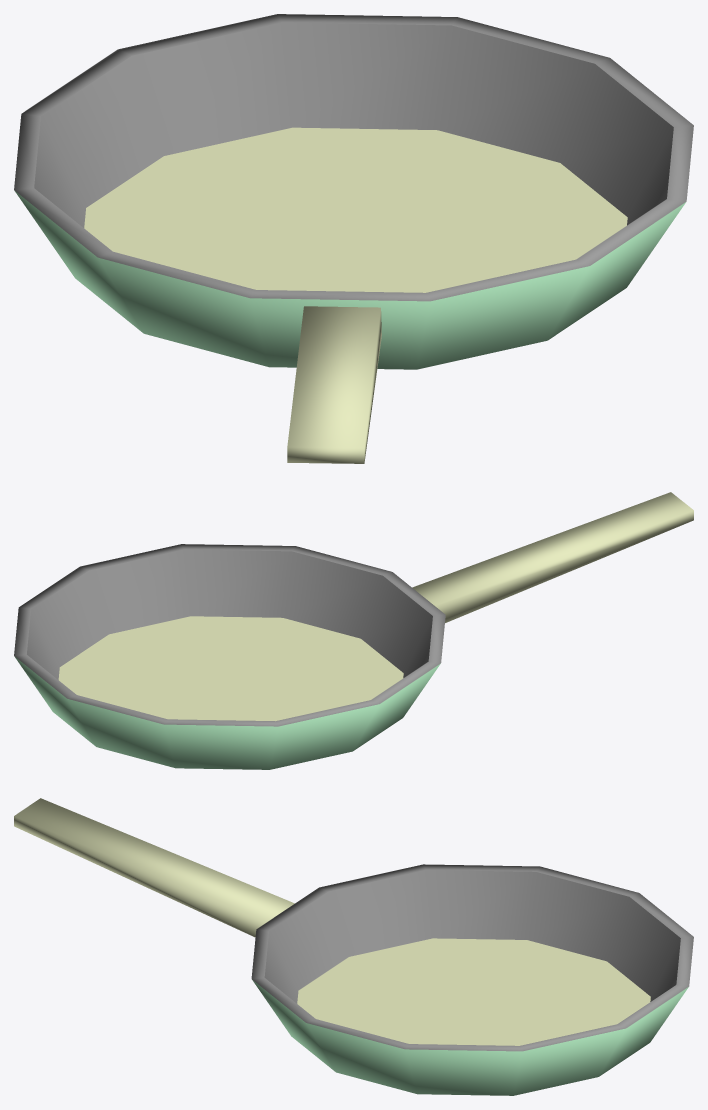
Rendered from K_Pan.glb.
3 views of the same model, one above another, from view 1: azimuth 30°, elevation 25°; view 2: azimuth 150°, elevation 25°; view 3: azimuth 270°, elevation 25° (orthographic). The views are drawn at different scales.
Parts seen in each view (by area): view 1: Kitchen_Pan; view 2: Kitchen_Pan; view 3: Kitchen_Pan.
Boxes of the visible parts, x1=… form: Kitchen_Pan: x1=14, y1=14, x2=693, y2=463; Kitchen_Pan: x1=14, y1=492, x2=693, y2=769; Kitchen_Pan: x1=14, y1=798, x2=693, y2=1095.
Size of the model in its own units: 0.5669 by 0.1135 by 0.7401.
